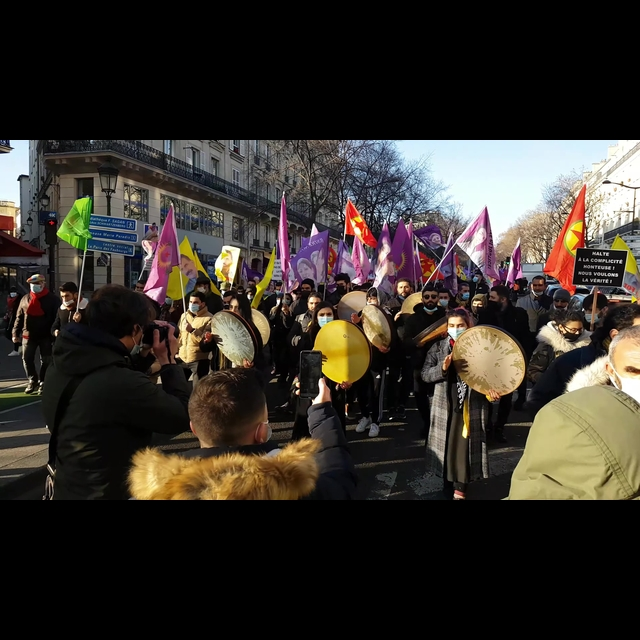APO: (175, 254, 197, 279)
PKK: (564, 218, 589, 258)
